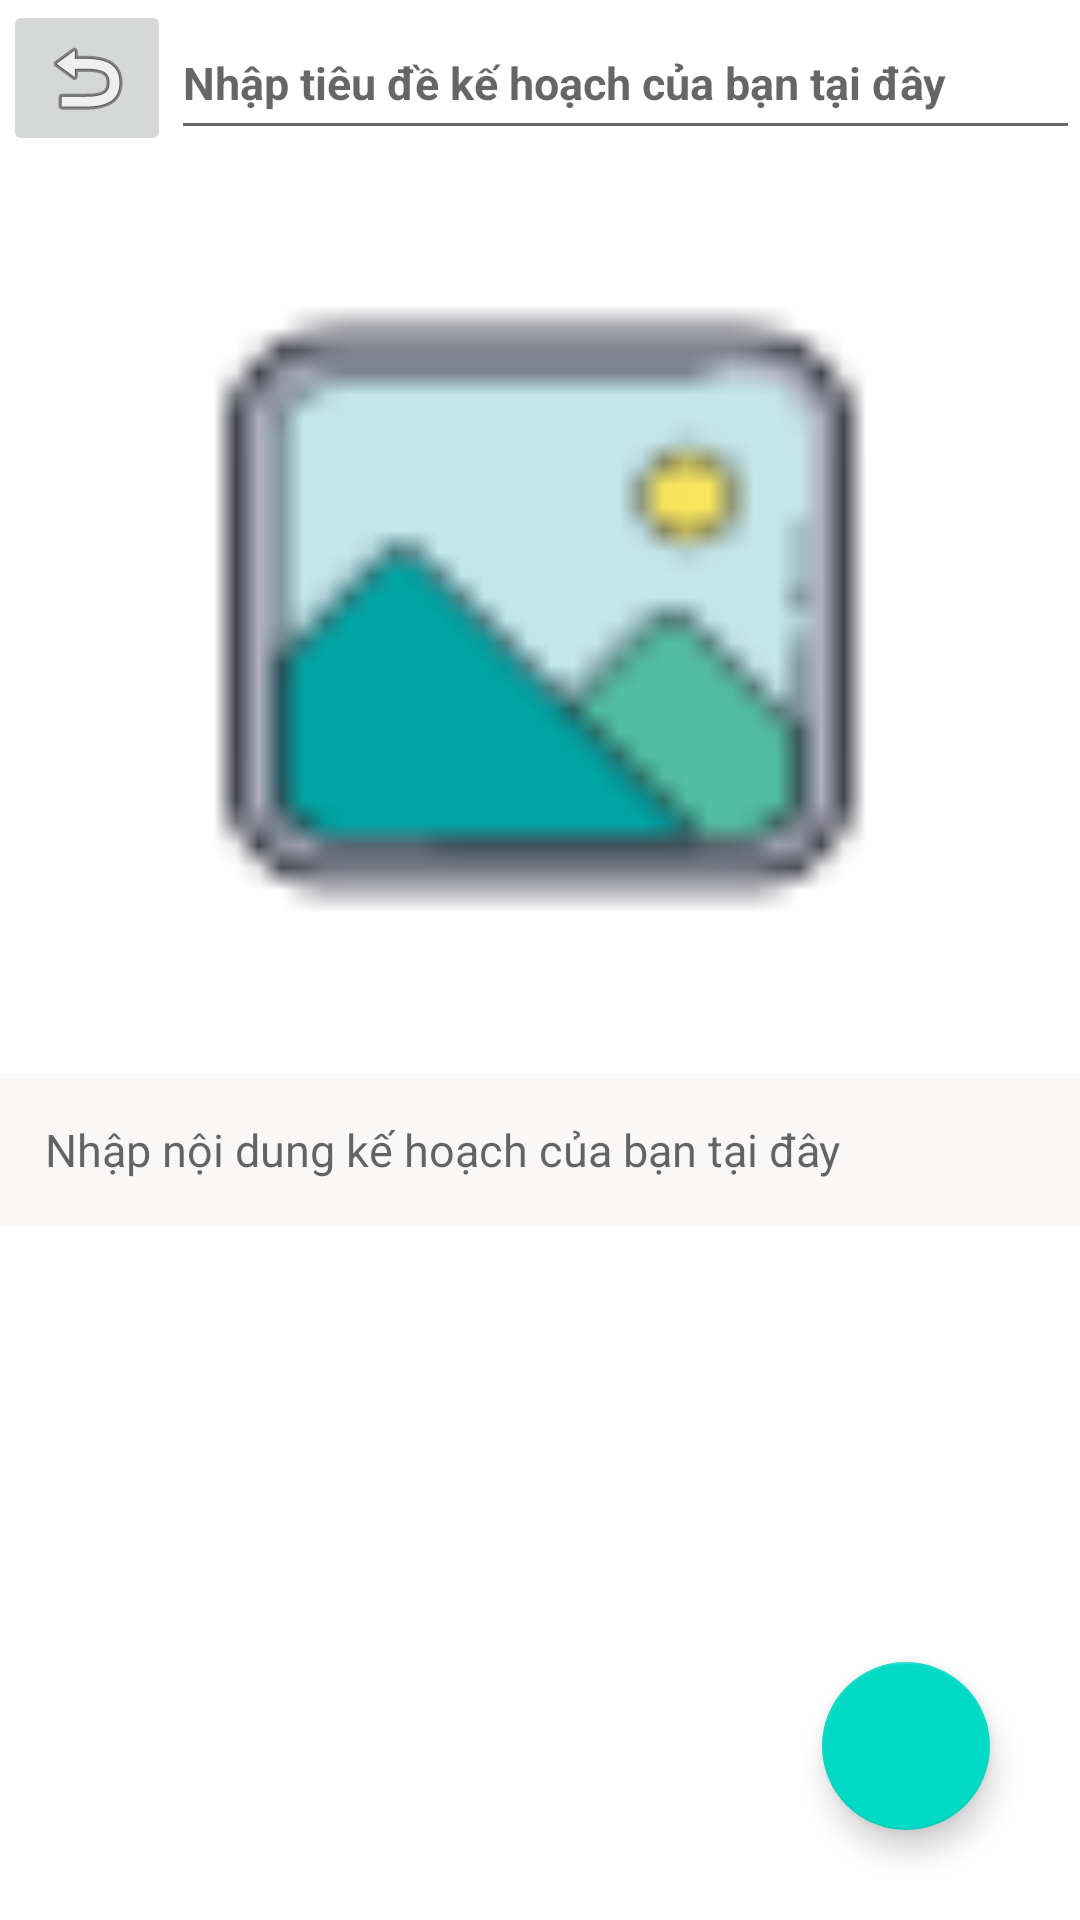

Named icons in this screenshot (1080×1920) and their centers, [x,y]:
revert: [87,78]
